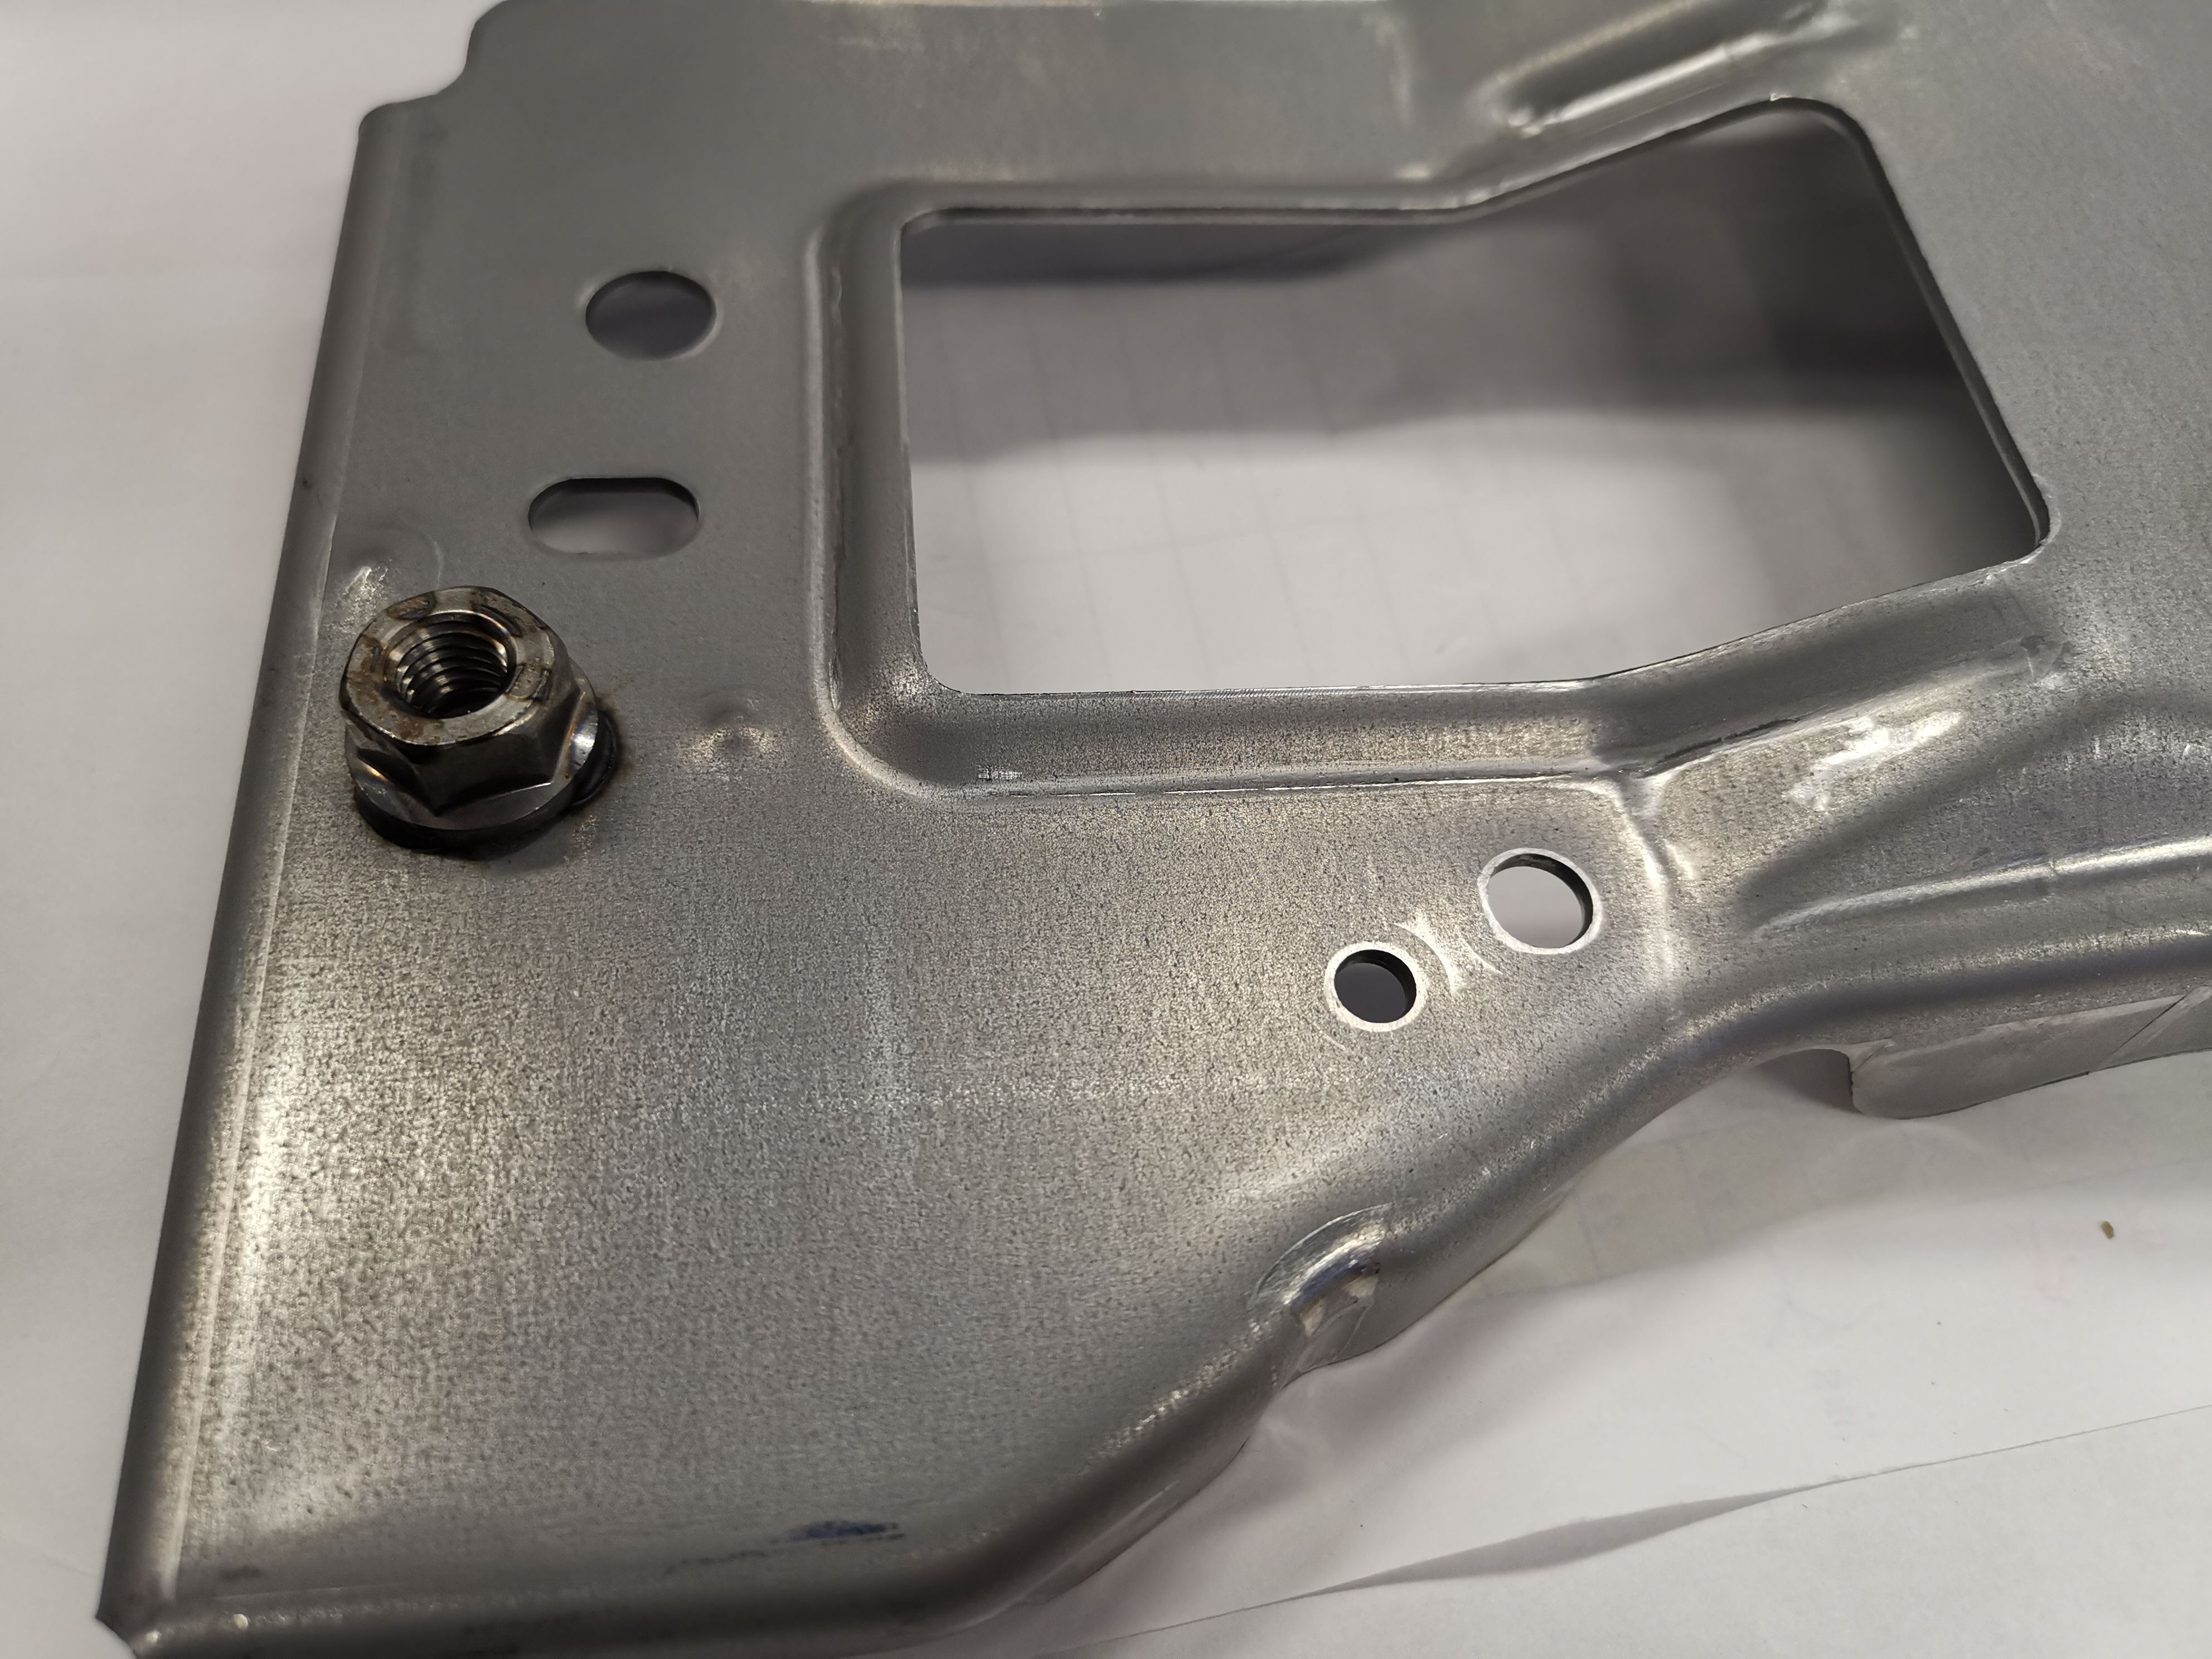dog: (333, 582, 627, 868)
